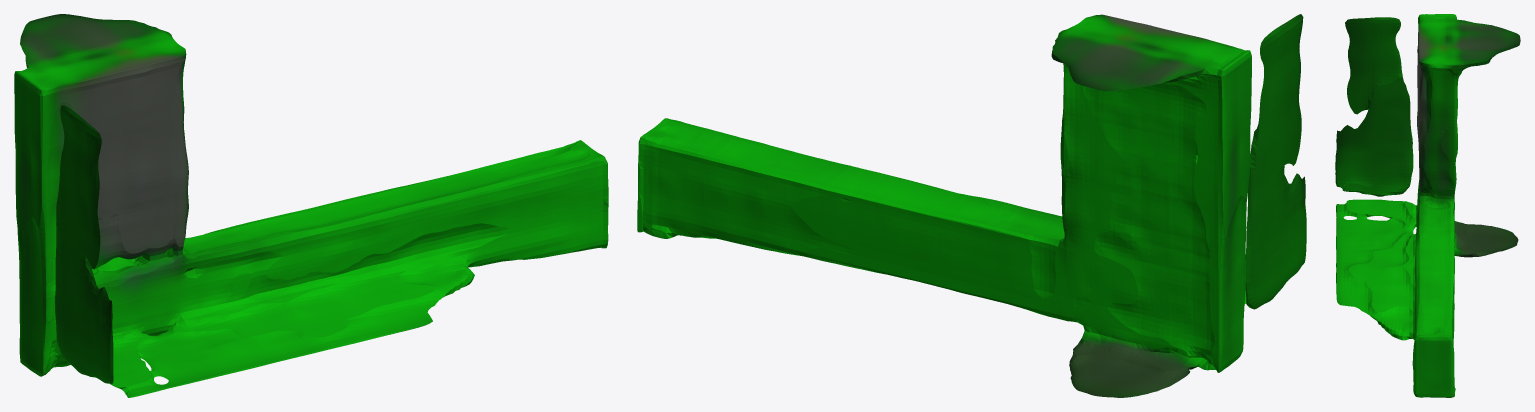
Rendered from Dark Green Car_1749650911.obj.
3 renders of one model, left to right at view 1: azimuth 30°, elevation 25°; view 2: azimuth 150°, elevation 25°; view 3: azimuth 270°, elevation 25°, orthographic. The views are drawn at different scales.
Size of the model in its own units: 1.98 by 1 by 0.8333.
